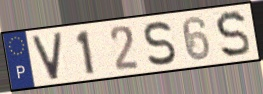1: (75, 28, 96, 77)
2: (109, 24, 141, 73)
6: (181, 15, 213, 63)
S: (214, 9, 253, 60), (142, 19, 178, 68)
V: (30, 30, 64, 82)
